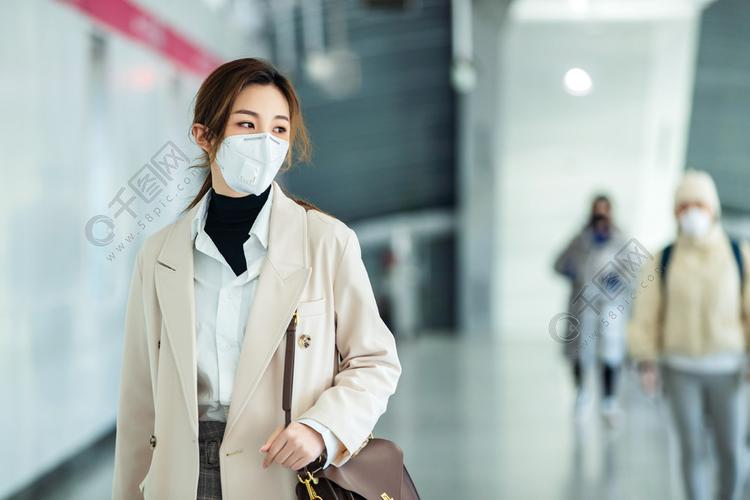mask: (205, 70, 298, 201)
